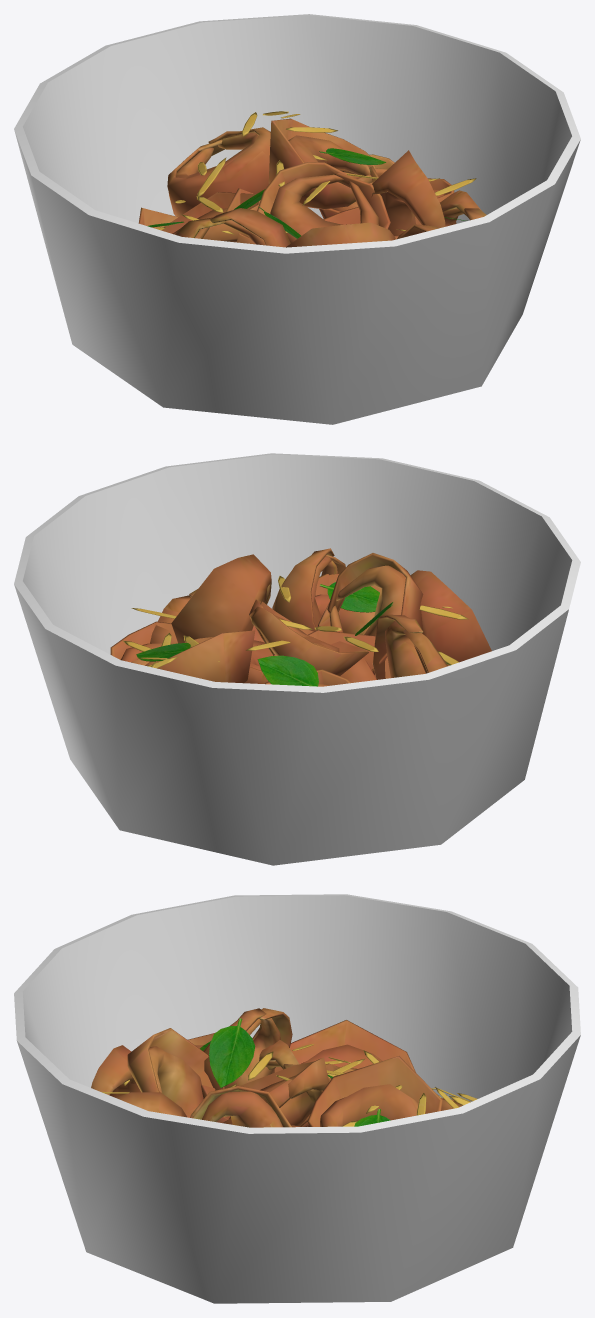
File: Prato_Tortelloni.fbx
The picture shows the model from 3 angles, top to bottom: view 1: azimuth 30°, elevation 25°; view 2: azimuth 150°, elevation 25°; view 3: azimuth 270°, elevation 25°; orthographic projection.
Visible parts, largest first — view 1: Circle.017, Torus.006, majericao; view 2: Circle.017, Torus.006, majericao.006, majericao.004, majericao; view 3: Circle.017, Torus.006, majericao.001.
Part boxes in pixels (box(x1,y1,x2,y2)): Circle.017: box(14, 14, 580, 424); Torus.006: box(138, 118, 486, 247); majericao: box(319, 148, 385, 164); Circle.017: box(14, 453, 580, 865); Torus.006: box(110, 548, 491, 686); majericao.006: box(257, 655, 318, 686); majericao.004: box(320, 582, 379, 612); majericao: box(136, 643, 190, 661); Circle.017: box(14, 894, 580, 1303); Torus.006: box(91, 1008, 462, 1127); majericao.001: box(209, 1018, 255, 1087).
Bounding box in the file's own units: 184 × 71.95 × 184.
Materials: 2 (1 with a texture image).
